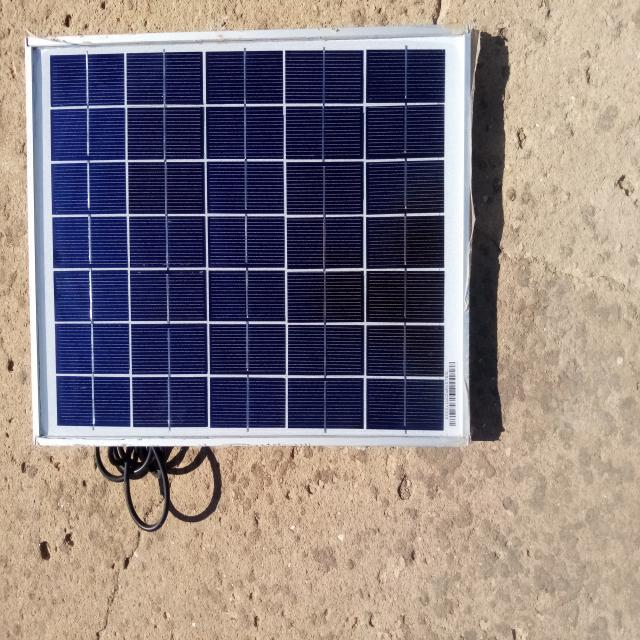Normal Solar Panel: (26, 27, 472, 443)
